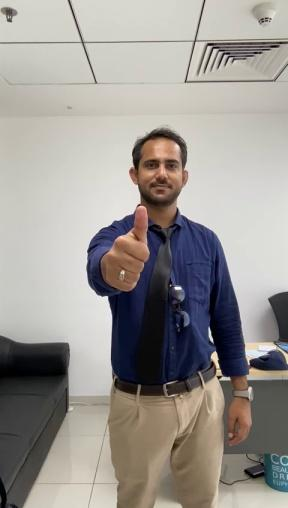thumbs-up: (102, 206, 152, 293)
